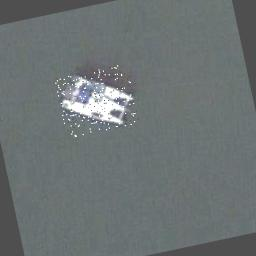boat: (54, 63, 139, 138)
